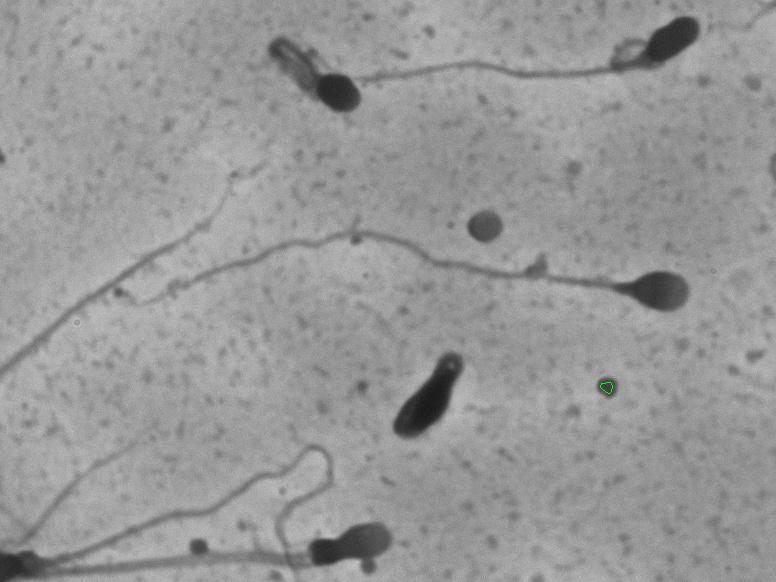Abnormal: (375, 7, 716, 115), (370, 327, 503, 461), (261, 30, 366, 135)
Normal: (115, 211, 705, 325)
